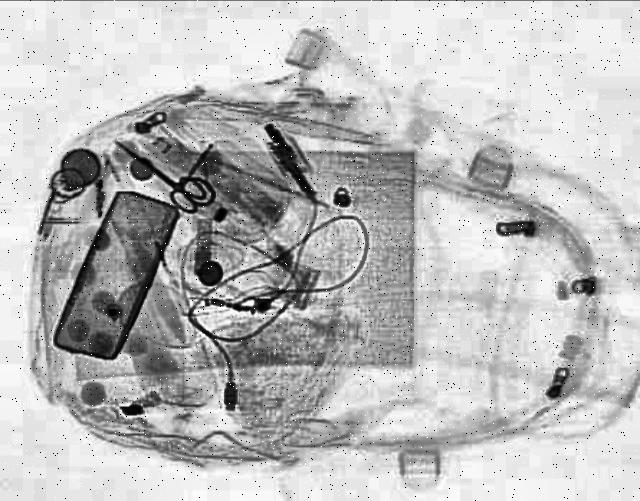Scissors: (98, 130, 222, 220)
